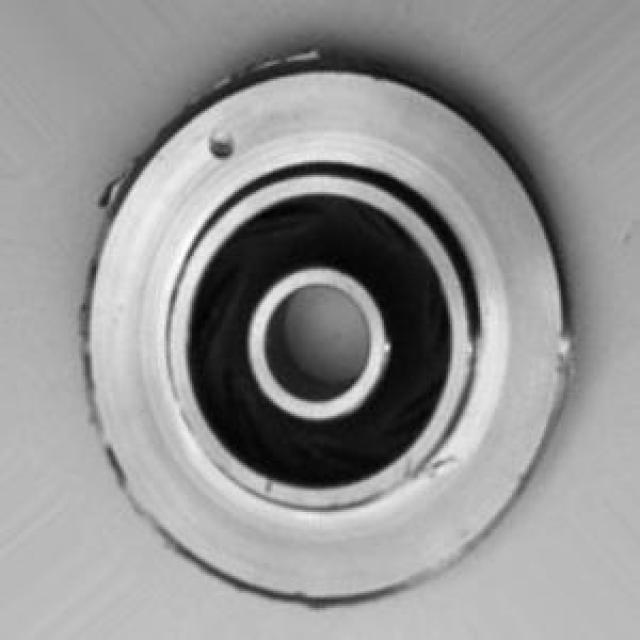Defect: (211, 126, 254, 175)
